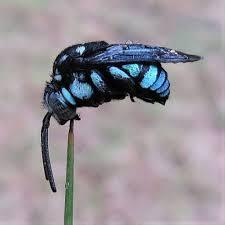Thyreus: (32, 32, 200, 193)
